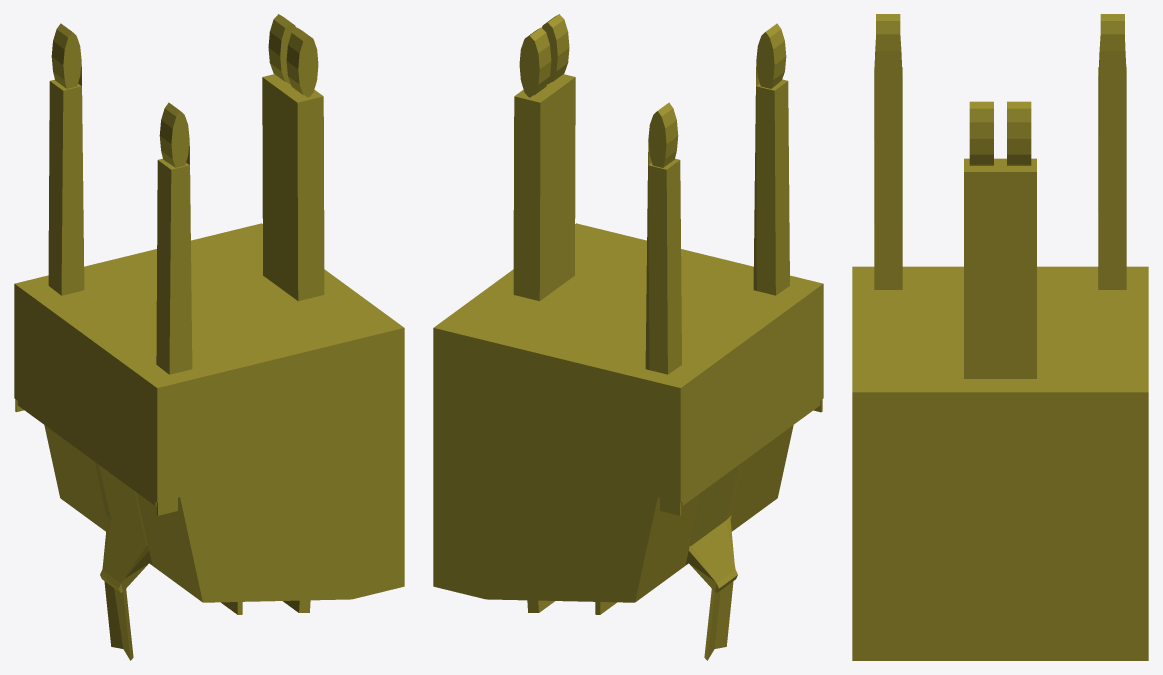
The model's file is piano.obj.
3 renders of one model, left to right at view 1: azimuth 30°, elevation 25°; view 2: azimuth 150°, elevation 25°; view 3: azimuth 270°, elevation 25°, orthographic. The views are drawn at different scales.
Visible parts, largest first — view 1: Cube; view 2: Cube; view 3: Cube.
Boxes of the visible parts, x1,y1,x2,y2 form: Cube: (14, 14, 404, 660); Cube: (433, 14, 823, 660); Cube: (852, 14, 1148, 660).
Size of the model in its own units: 2 by 4.54 by 2.
